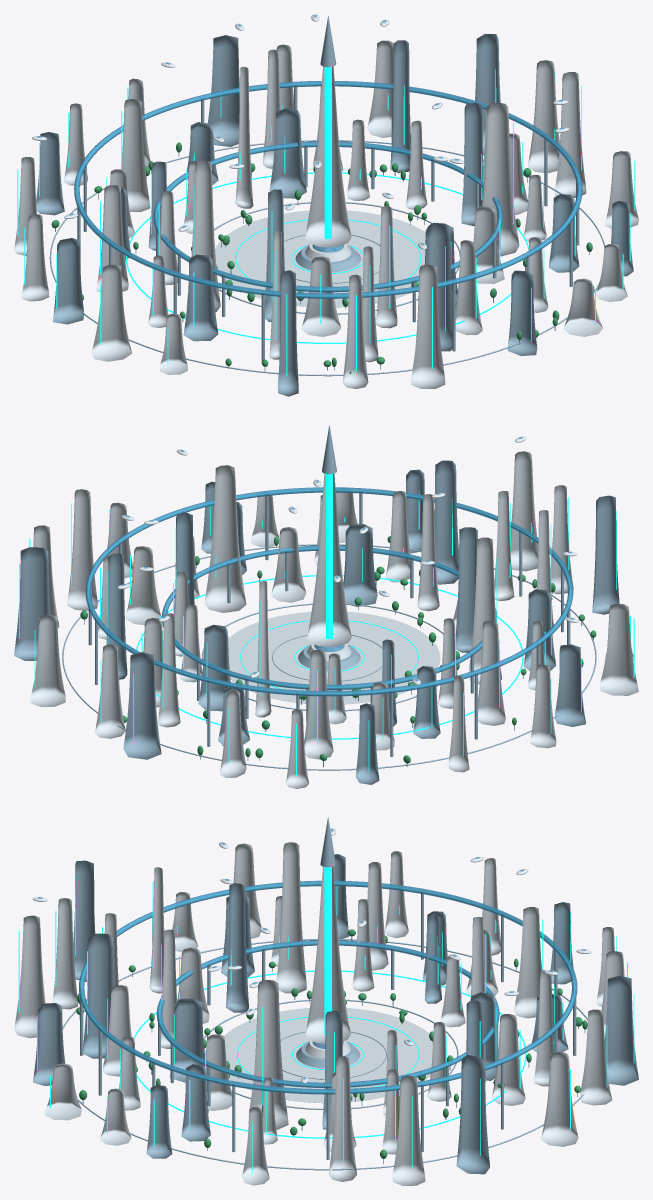
The model's file is future_city_2126_interactive.glb.
The picture shows the model from 3 angles, top to bottom: view 1: azimuth 30°, elevation 25°; view 2: azimuth 150°, elevation 25°; view 3: azimuth 270°, elevation 25°; orthographic projection. The views are drawn at different scales.
Parts seen in each view (by area): view 1: CentralPlaza, TransitTube_1, CentralSpireShell, Building_R48_01, TransitTube_0, Building_R91_06, Building_R91_17, Building_R91_10, Building_R91_21, Building_R91_00, Building_R48_12, Building_R68_13 (+49 smaller); view 2: CentralPlaza, TransitTube_1, Building_R48_01, CentralSpireShell, Building_R91_17, TransitTube_0, Building_R91_20, Building_R68_05, Building_R91_08, Building_R91_06, Building_R91_10, Building_R91_00 (+48 smaller); view 3: CentralPlaza, TransitTube_1, TransitTube_0, Building_R91_20, Building_R48_07, Building_R48_01, Building_R91_17, CentralSpireShell, Building_R68_05, Building_R91_06, Building_R91_21, Building_R91_19 (+52 smaller).
Part boxes in pixels (left/top/right/bottom): CentralPlaza: left=215, top=210, right=425, bottom=307; TransitTube_1: left=74, top=81, right=582, bottom=298; CentralSpireShell: left=305, top=66, right=351, bottom=247; Building_R48_01: left=481, top=102, right=519, bottom=256; TransitTube_0: left=153, top=141, right=502, bottom=292; Building_R91_06: left=411, top=264, right=445, bottom=388; Building_R91_17: left=207, top=35, right=239, bottom=146; Building_R91_10: left=91, top=264, right=131, bottom=361; Building_R91_21: left=527, top=60, right=559, bottom=173; Building_R91_00: left=554, top=72, right=586, bottom=197; Building_R48_12: left=269, top=108, right=306, bottom=198; Building_R68_13: left=121, top=99, right=150, bottom=211; CentralPlaza: left=228, top=611, right=440, bottom=704; TransitTube_1: left=85, top=487, right=573, bottom=696; Building_R48_01: left=204, top=465, right=246, bottom=612; CentralSpireShell: left=307, top=473, right=351, bottom=647; Building_R91_17: left=123, top=652, right=161, bottom=759; TransitTube_0: left=161, top=545, right=496, bottom=690; Building_R91_20: left=14, top=547, right=50, bottom=660; Building_R68_05: left=434, top=460, right=458, bottom=584; Building_R91_08: left=592, top=495, right=619, bottom=614; Building_R91_06: left=510, top=451, right=538, bottom=571; Building_R91_10: left=599, top=603, right=638, bottom=695; Building_R91_00: left=67, top=489, right=97, bottom=610; CentralPlaza: left=224, top=1008, right=432, bottom=1103; TransitTube_1: left=79, top=880, right=577, bottom=1094; TransitTube_0: left=156, top=940, right=499, bottom=1087; Building_R91_20: left=456, top=1055, right=489, bottom=1174; Building_R48_07: left=276, top=842, right=306, bottom=993; Building_R48_01: left=248, top=980, right=288, bottom=1129; Building_R91_17: left=604, top=975, right=638, bottom=1085; CentralSpireShell: left=305, top=866, right=350, bottom=1043; Building_R68_05: left=83, top=933, right=113, bottom=1058; Building_R91_06: left=14, top=915, right=45, bottom=1038; Building_R91_21: left=392, top=1075, right=425, bottom=1185; Building_R91_19: left=541, top=1052, right=578, bottom=1146.
Size of what is drawn, in the model's own units: 192 by 81.1 by 193.
